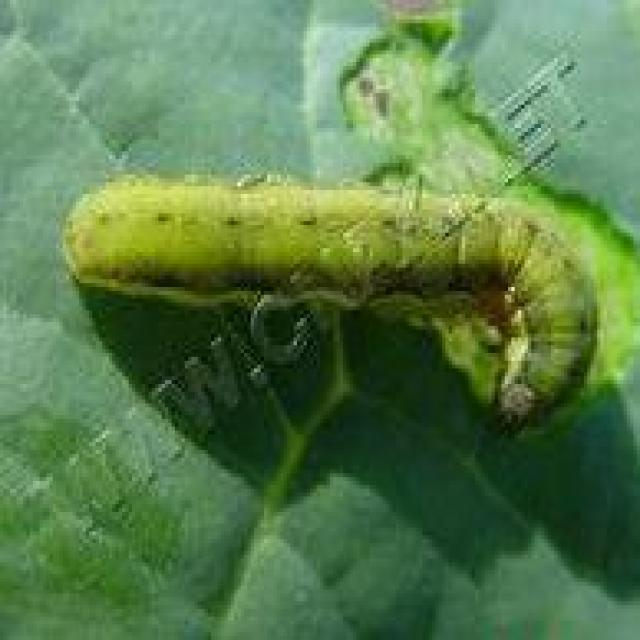BeetArmyWorm-Larva-: (55, 170, 604, 440)
